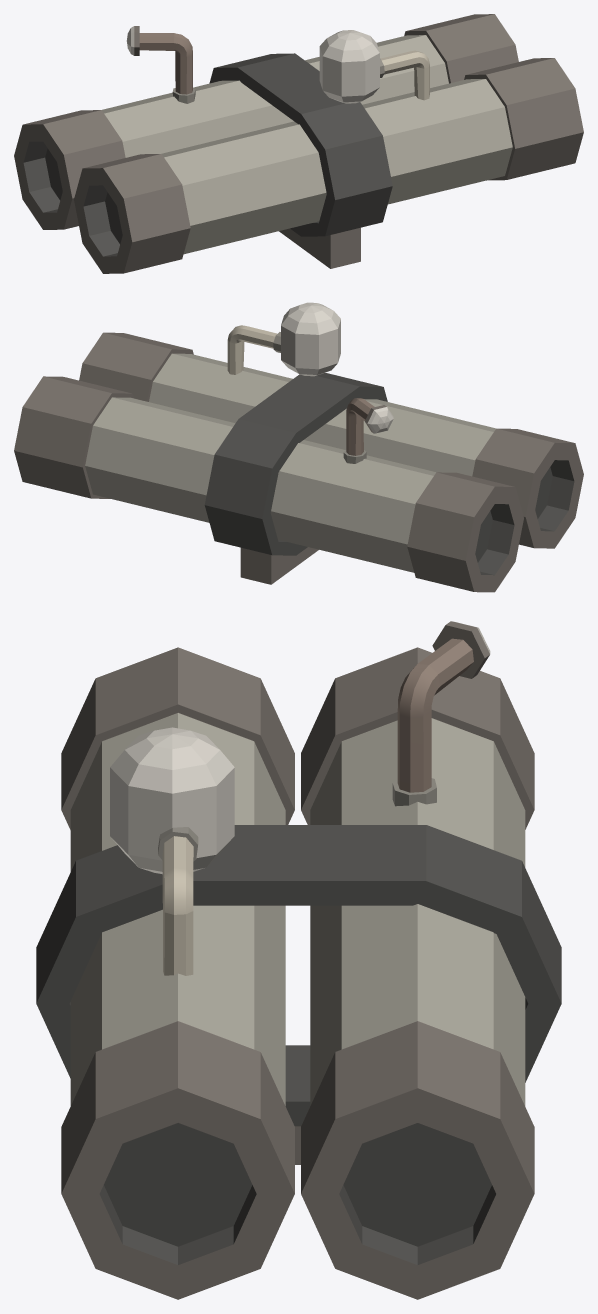
Rendered from tuberias_suelo.fbx.
3 renders of one model, top to bottom at view 1: azimuth 30°, elevation 25°; view 2: azimuth 150°, elevation 25°; view 3: azimuth 270°, elevation 25°, orthographic. The views are drawn at different scales.
Visible parts, largest first — view 1: tuberia_1, soporte, tuberia_final_4, tuberia_2, tuberia_final_1, tuberia_final_2, tuberia_final_3, radarcillo, gauges, tuberia_radar; view 2: tuberia_2, soporte, tuberia_1, tuberia_final_2, tuberia_final_3, tuberia_final_4, tuberia_final_1, radarcillo, gauges, tuberia_radar; view 3: tuberia_final_1, tuberia_final_3, soporte, tuberia_2, tuberia_1, tuberia_final_4, radarcillo, tuberia_final_2, gauges, tuberia_radar.
Part boxes in pixels (<box>): tuberia_1: <box>161,79,512,254</box>; soporte: <box>209,53,392,268</box>; tuberia_final_4: <box>74,154,190,273</box>; tuberia_2: <box>102,35,448,157</box>; tuberia_final_1: <box>464,58,583,180</box>; tuberia_final_2: <box>14,110,125,229</box>; tuberia_final_3: <box>404,14,518,83</box>; radarcillo: <box>319,30,379,103</box>; gauges: <box>126,26,195,103</box>; tuberia_radar: <box>380,50,429,100</box>; tuberia_2: <box>85,397,435,572</box>; soporte: <box>204,373,387,584</box>; tuberia_1: <box>149,353,495,476</box>; tuberia_final_2: <box>407,472,523,592</box>; tuberia_final_3: <box>14,376,133,498</box>; tuberia_final_4: <box>472,428,583,548</box>; tuberia_final_1: <box>79,332,193,401</box>; radarcillo: <box>281,302,340,376</box>; gauges: <box>343,398,393,463</box>; tuberia_radar: <box>227,325,280,374</box>; tuberia_final_1: <box>61,1021,294,1299</box>; tuberia_final_3: <box>301,1021,534,1299</box>; soporte: <box>36,825,561,1164</box>; tuberia_2: <box>310,718,525,1105</box>; tuberia_1: <box>70,713,285,1105</box>; tuberia_final_4: <box>61,647,294,829</box>; radarcillo: <box>110,727,234,874</box>; tuberia_final_2: <box>301,647,534,829</box>; gauges: <box>392,621,490,806</box>; tuberia_radar: <box>158,827,198,975</box>.
Size of the model in its own units: 165 by 75.73 by 83.06.
